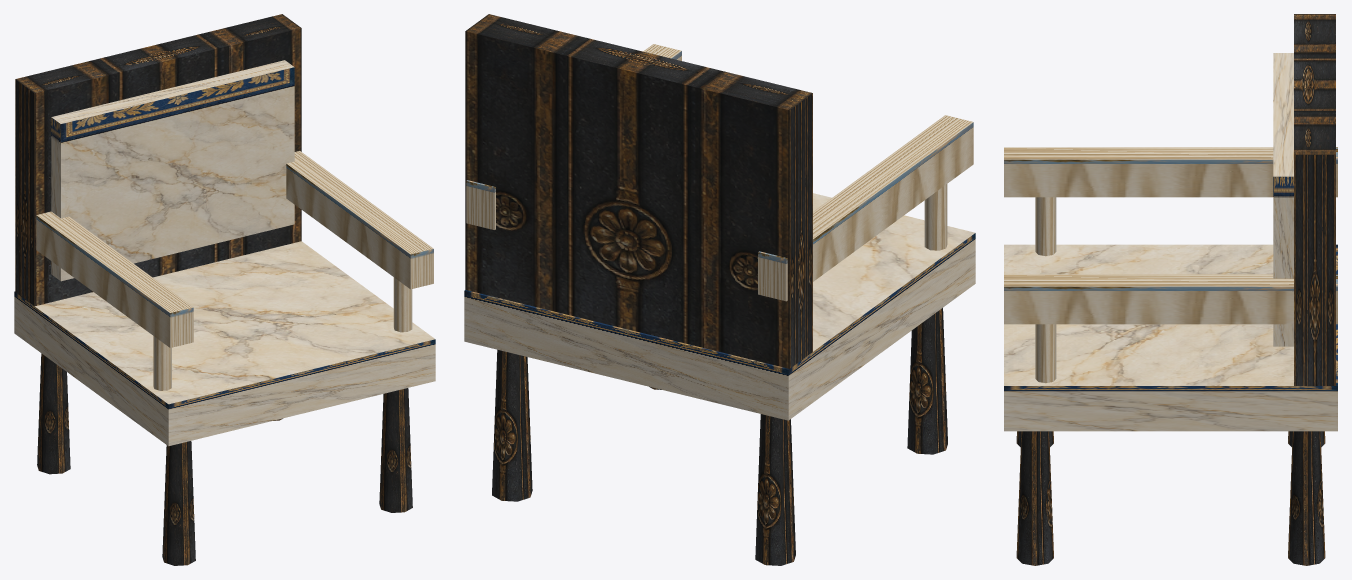
File: empire-armchair.gltf
3 views of the same model, side by side, from view 1: azimuth 30°, elevation 25°; view 2: azimuth 150°, elevation 25°; view 3: azimuth 270°, elevation 25° (orthographic). The views are drawn at different scales.
Visible parts, largest first — view 1: kit:0:furniture:blue:, kit:0:furniture:mahogany:, kit:0:furniture:gold:; view 2: kit:0:furniture:mahogany:, kit:0:furniture:blue:, kit:0:furniture:gold:; view 3: kit:0:furniture:blue:, kit:0:furniture:gold:, kit:0:furniture:mahogany:.
Boxes of the visible parts, x1,y1,x2,y2 form: kit:0:furniture:blue:: (14,60,435,446); kit:0:furniture:mahogany:: (15,14,412,565); kit:0:furniture:gold:: (36,151,433,390); kit:0:furniture:mahogany:: (465,14,947,565); kit:0:furniture:blue:: (464,193,975,420); kit:0:furniture:gold:: (466,44,973,301); kit:0:furniture:blue:: (1004,53,1337,431); kit:0:furniture:gold:: (1004,147,1337,383); kit:0:furniture:mahogany:: (1016,14,1335,565).
Size of the model in its own units: 0.8 by 1.1 by 0.8.
Materials: 3 (3 with a texture image).
